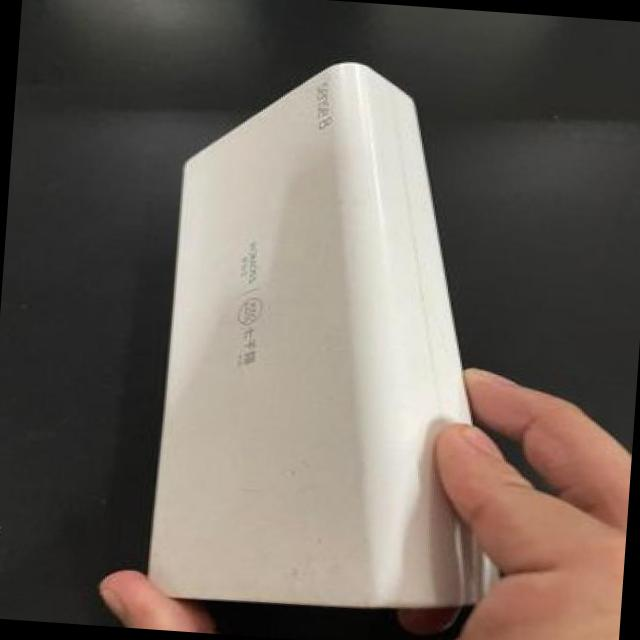power_bank: (139, 43, 550, 634)
